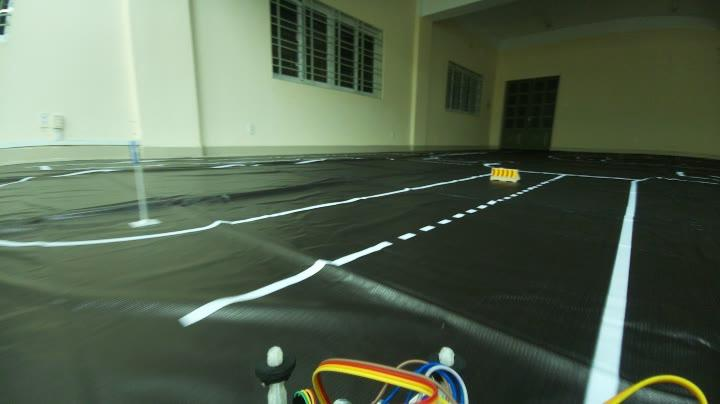onewayroad: (128, 141, 144, 162)
roadblock: (488, 162, 516, 183)
